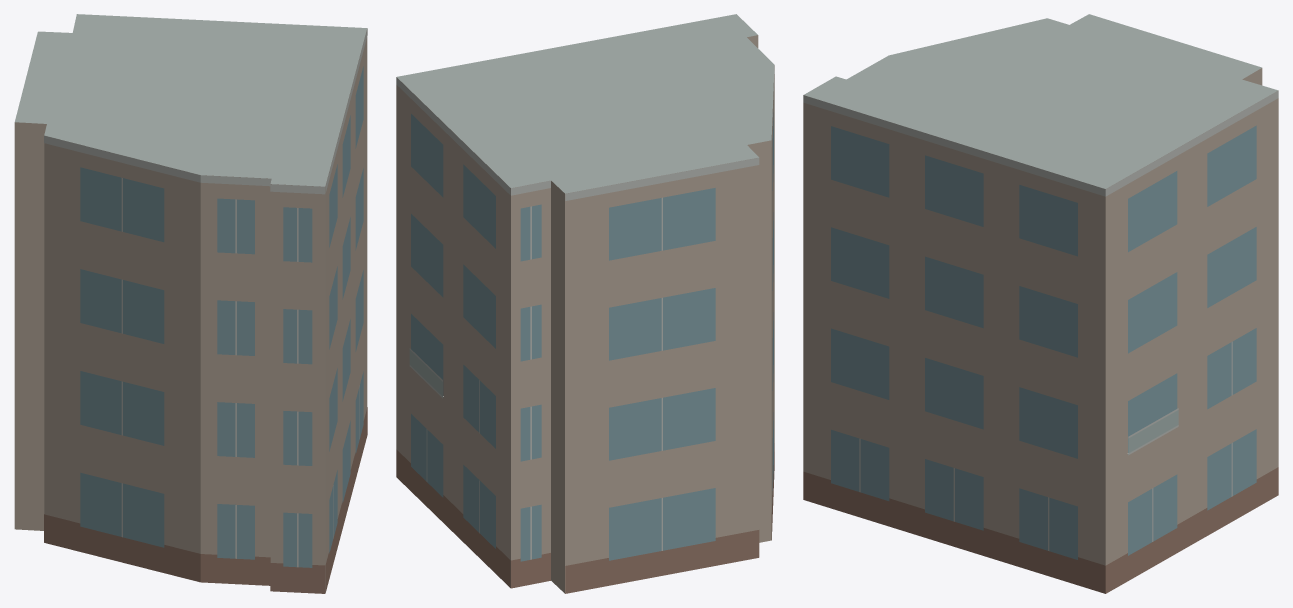
File: survey-upis-32618371.glb
3 renders of one model, left to right at view 1: azimuth 30°, elevation 25°; view 2: azimuth 150°, elevation 25°; view 3: azimuth 270°, elevation 25°, orthographic.
Visible parts, largest first — view 1: survey-upis-32618371.tmp; view 2: survey-upis-32618371.tmp; view 3: survey-upis-32618371.tmp.
Part boxes in pixels (<box>): survey-upis-32618371.tmp: <box>14,14,367,593</box>; survey-upis-32618371.tmp: <box>396,14,774,593</box>; survey-upis-32618371.tmp: <box>803,14,1278,593</box>.
Bounding box in the file's own units: 12.07 × 13 × 13.84.
